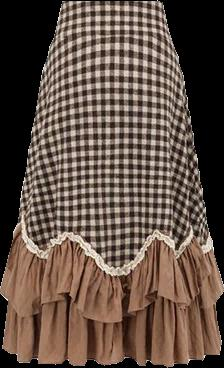Hemline: (0, 276, 219, 328), (0, 343, 223, 367)
Waistline: (15, 220, 214, 272), (61, 0, 162, 3)
